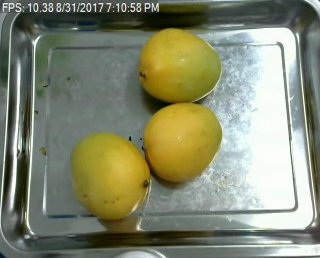Mango: (131, 102, 227, 186), (63, 132, 154, 218), (131, 28, 227, 99)
